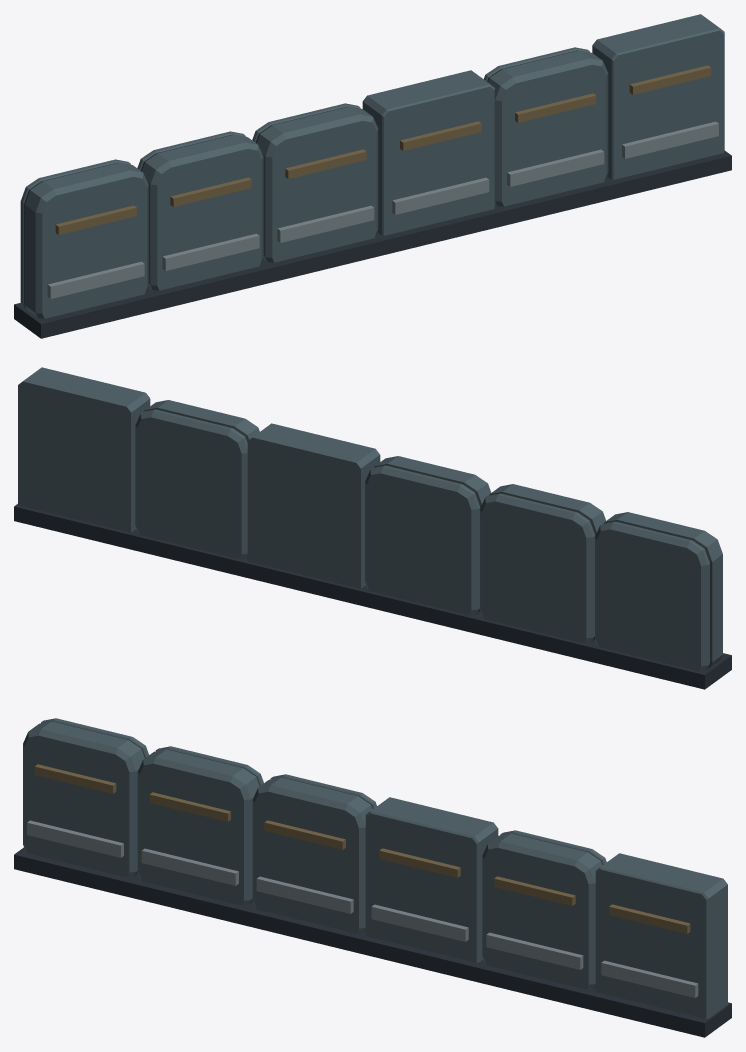
Rendered from HX-03_retracted_leaf.glb.
3 renders of one model, top to bottom at view 1: azimuth 30°, elevation 25°; view 2: azimuth 150°, elevation 25°; view 3: azimuth 330°, elevation 25°, orthographic.
Parts seen in each view (by area): view 1: HX-03_retracted_leaf; view 2: HX-03_retracted_leaf; view 3: HX-03_retracted_leaf.
Part boxes in pixels (x1,y1,x2,y2): HX-03_retracted_leaf: [14, 14, 731, 338]; HX-03_retracted_leaf: [14, 367, 731, 689]; HX-03_retracted_leaf: [14, 718, 731, 1037].
Bounding box in the file's own units: 3.97 × 0.766 × 0.27.
